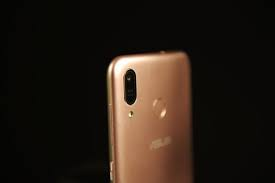asus: (101, 48, 200, 183)
